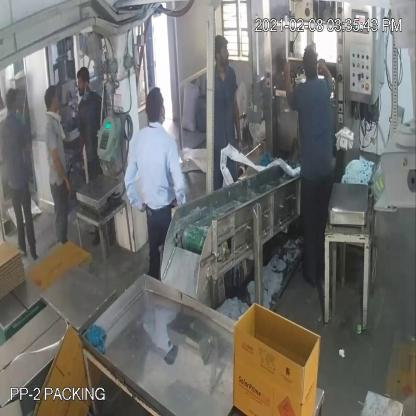no_glove: (161, 132, 192, 214), (48, 145, 75, 200), (230, 77, 248, 151), (124, 146, 142, 218), (280, 50, 298, 109), (314, 52, 337, 97)
